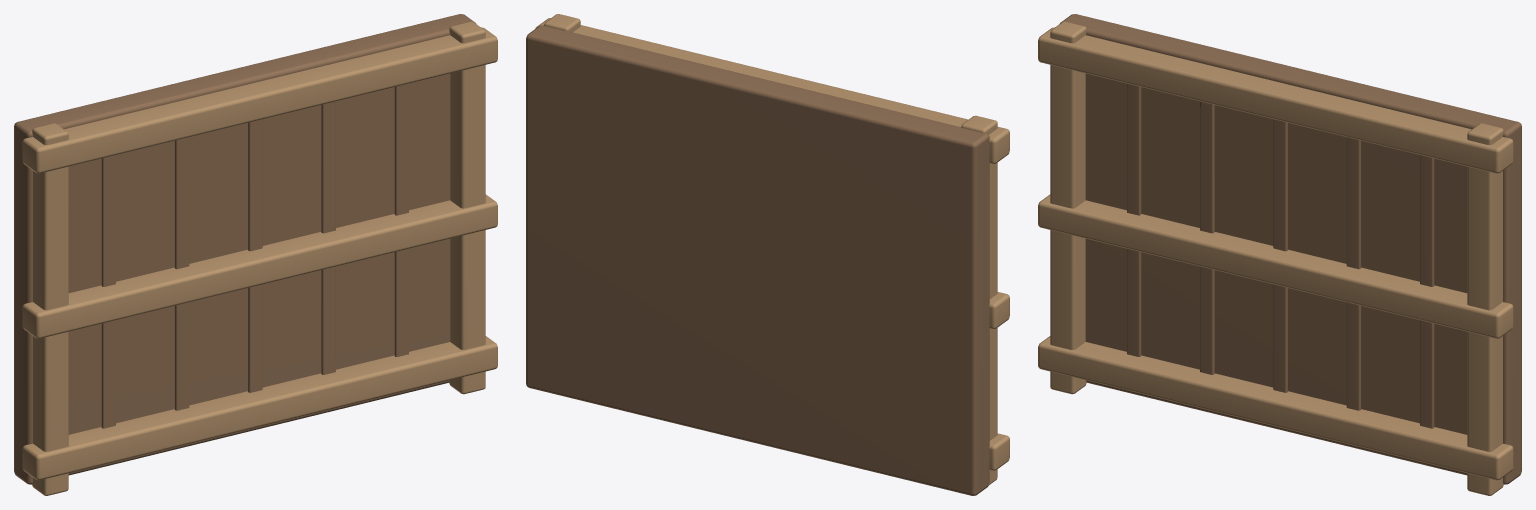
File: SM_Wall_Timber_4x3.fbx
The picture shows the model from 3 angles, left to right: view 1: azimuth 30°, elevation 25°; view 2: azimuth 150°, elevation 25°; view 3: azimuth 330°, elevation 25°; orthographic projection.
Parts seen in each view (by area): view 1: SM_Wall_Timber_4x3; view 2: SM_Wall_Timber_4x3; view 3: SM_Wall_Timber_4x3.
Part boxes in pixels (<box>): SM_Wall_Timber_4x3: <box>14,14,497,495</box>; SM_Wall_Timber_4x3: <box>526,14,1009,495</box>; SM_Wall_Timber_4x3: <box>1038,14,1521,495</box>.
Bounding box in the file's own units: 4.1 × 3.05 × 0.47.
